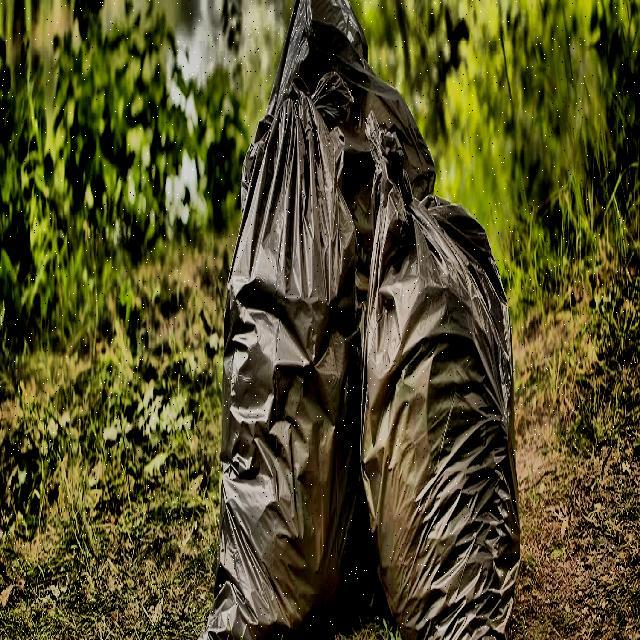Trashbag: (206, 66, 365, 640), (356, 107, 524, 640), (268, 0, 438, 212)
